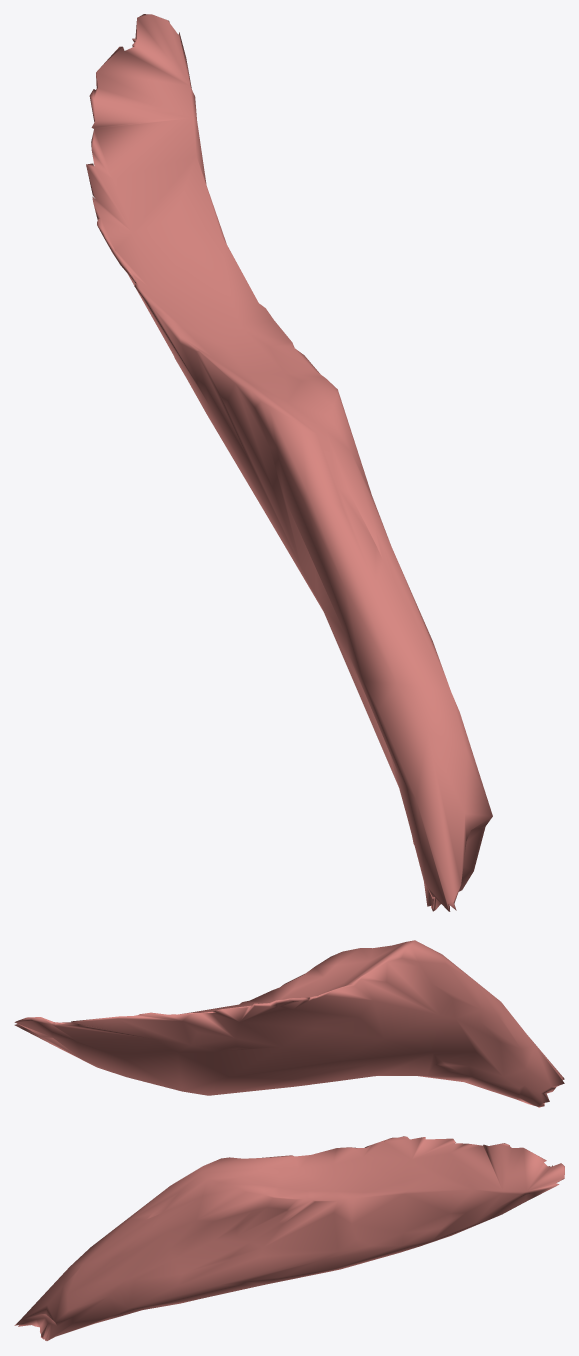
3 renders of one model, top to bottom at view 1: azimuth 30°, elevation 25°; view 2: azimuth 150°, elevation 25°; view 3: azimuth 270°, elevation 25°, orthographic. The views are drawn at different scales.
Parts seen in each view (by area): view 1: ZA_1cf4c0c5d1328d37; view 2: ZA_1cf4c0c5d1328d37; view 3: ZA_1cf4c0c5d1328d37.
Part boxes in pixels (x1=…): ZA_1cf4c0c5d1328d37: x1=86, y1=14, x2=492, y2=911; ZA_1cf4c0c5d1328d37: x1=14, y1=940, x2=564, y2=1107; ZA_1cf4c0c5d1328d37: x1=14, y1=1136, x2=564, y2=1340.
Size of the model in its own units: 0.0143 by 0.0229 by 0.0498.
